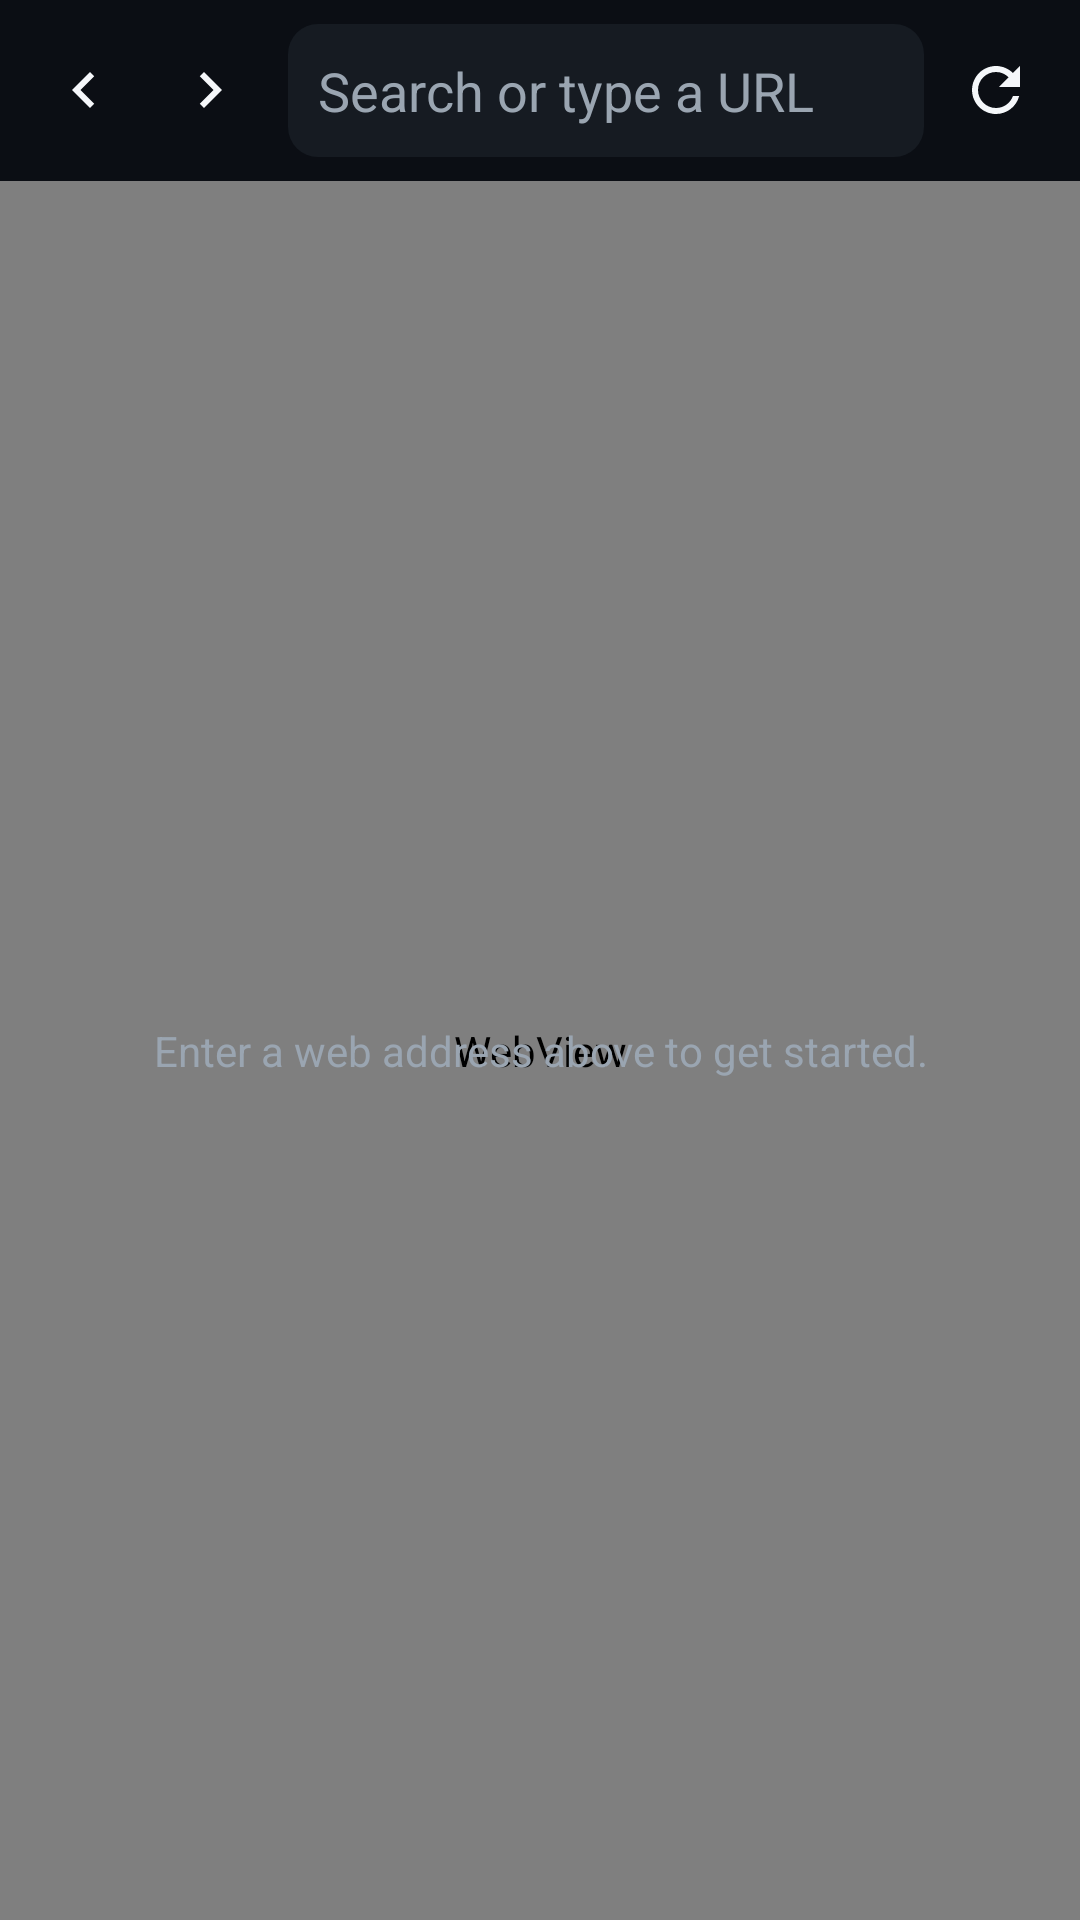

Point at icon controls on the screen. Image size 1080px x 1920px, points as (x=x, y=y).
Back: (x=83, y=90)
Forward: (x=211, y=90)
Reload: (x=996, y=90)
